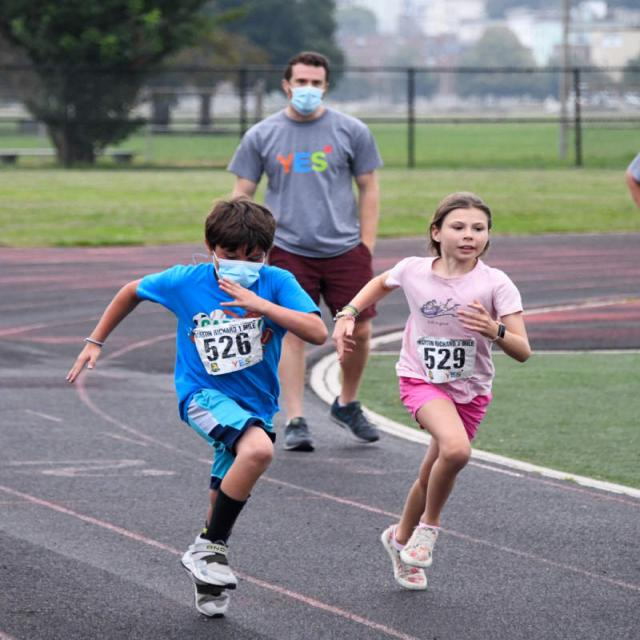Person: (69, 199, 328, 616), (331, 192, 532, 590), (230, 52, 383, 452)
